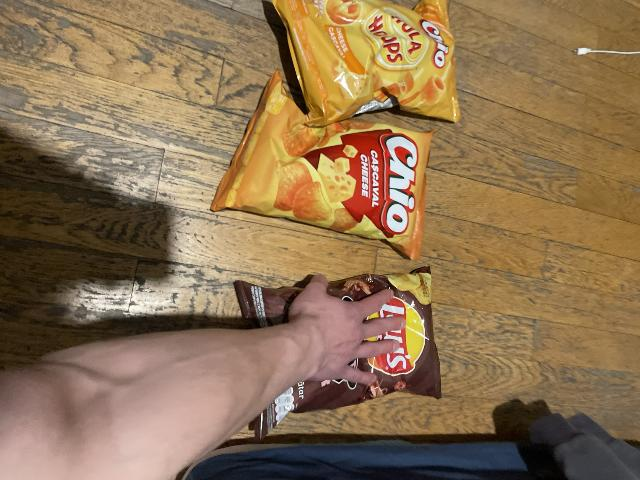Chio Cascaval 125g: (209, 72, 434, 265)
Chio Hula Hoops Cheese 70g: (275, 0, 458, 127)
Lays Beef Grilled Ribs 125g: (237, 264, 439, 437)
